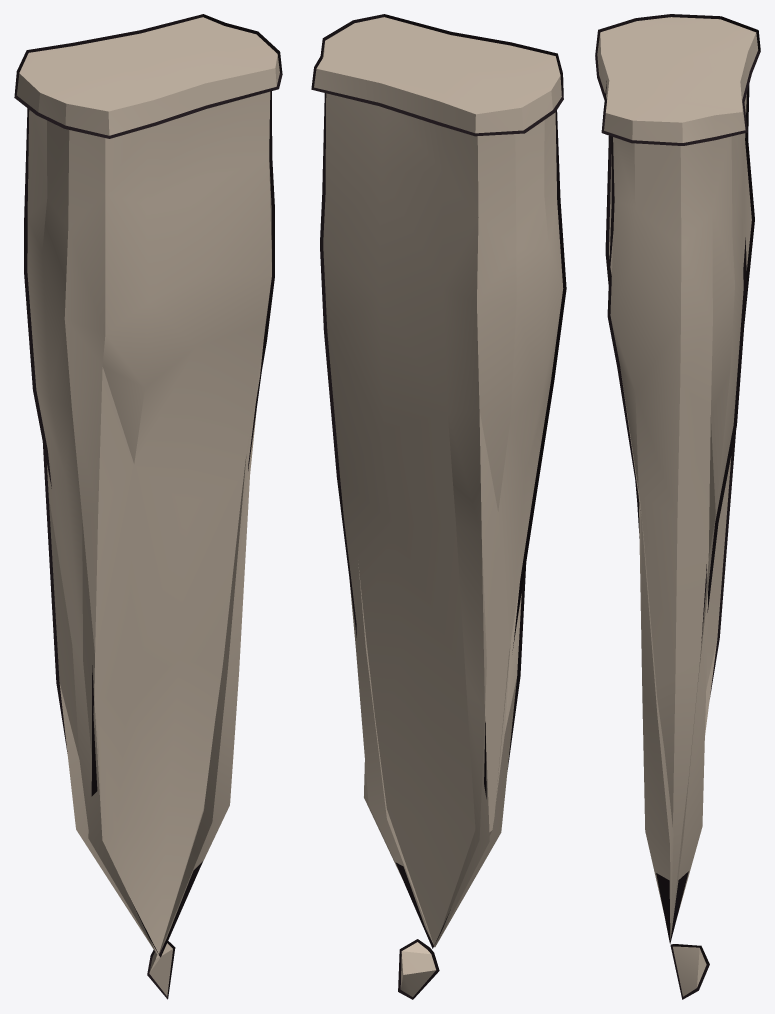
The model's file is SM_Trail_Node_04.fbx.
The picture shows the model from 3 angles, left to right: view 1: azimuth 30°, elevation 25°; view 2: azimuth 150°, elevation 25°; view 3: azimuth 270°, elevation 25°; orthographic projection. The views are drawn at different scales.
Parts seen in each view (by area): view 1: SM_Trail_Node_04; view 2: SM_Trail_Node_04; view 3: SM_Trail_Node_04.
Part boxes in pixels (bbox=[...]): SM_Trail_Node_04: bbox=[14, 14, 282, 999]; SM_Trail_Node_04: bbox=[311, 14, 566, 999]; SM_Trail_Node_04: bbox=[595, 14, 760, 999].
Bounding box in the file's own units: 10.82 × 42.5 × 6.92.
